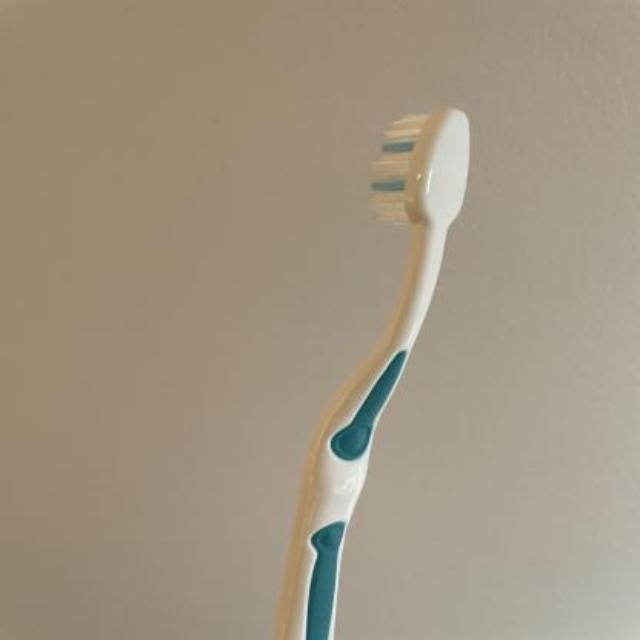toothbrush: (269, 96, 485, 640)
